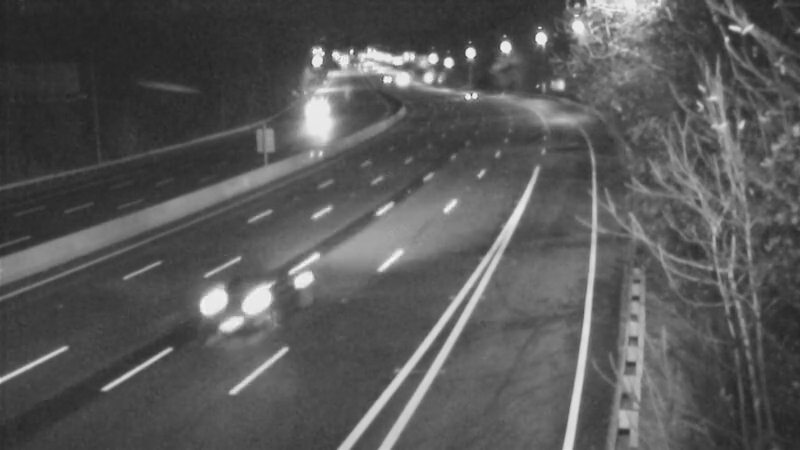vehicle: (185, 254, 295, 364), (441, 70, 491, 120), (287, 88, 337, 138)
